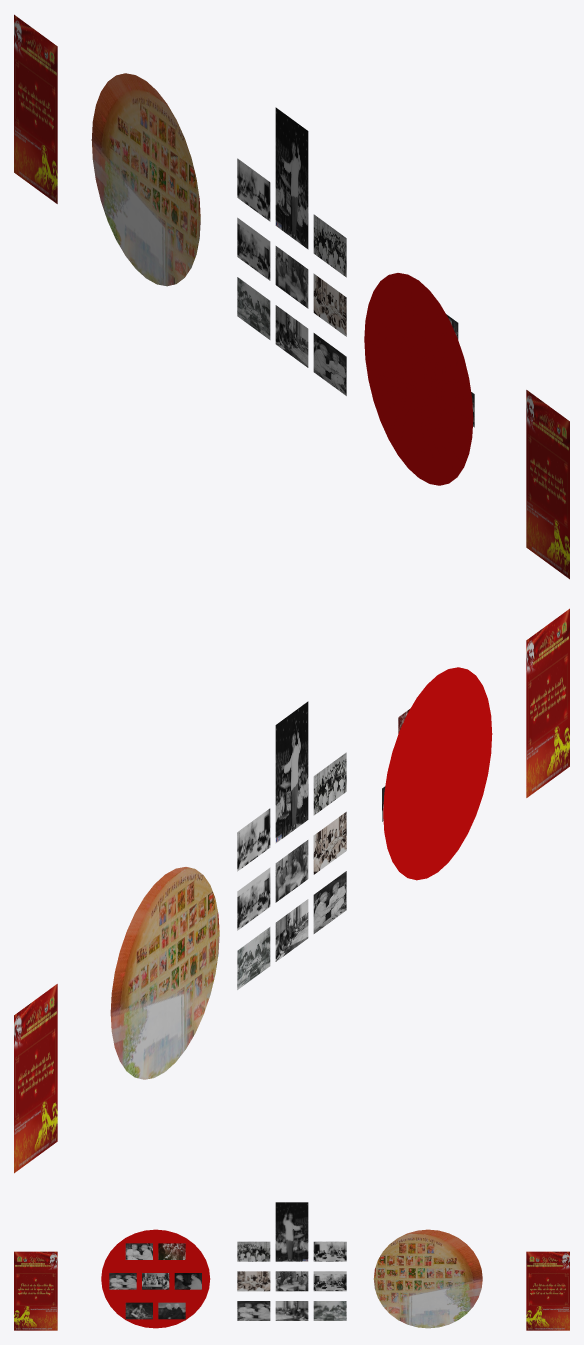
The model's file is VN_TN_Left.glb.
3 views of the same model, one above another, from view 1: azimuth 30°, elevation 25°; view 2: azimuth 150°, elevation 25°; view 3: azimuth 270°, elevation 25° (orthographic). The views are drawn at different scales.
Parts seen in each view (by area): view 1: Circle, Circle.002, Plane.010, Plane.004, Plane.012, Plane.014, Plane.015, Plane.017, Plane.022, Plane.006, Plane.011, Plane.016 (+1 smaller); view 2: Circle.002, Circle, Plane.010, Plane.004, Plane.012, Plane.011, Plane.014, Plane.015, Plane.017, Plane.022, Plane.006, Plane.016 (+1 smaller); view 3: Circle.002, Circle, Plane.010, Plane.004, Plane.012, Plane.011, Plane.014, Plane.015, Plane.017, Plane.016, Plane.022, Plane.002 (+8 smaller).
Part boxes in pixels (<box>): Circle: <box>364,273,473,485</box>; Circle.002: <box>91,73,200,286</box>; Plane.010: <box>14,14,57,203</box>; Plane.004: <box>526,390,569,579</box>; Plane.012: <box>275,107,308,249</box>; Plane.014: <box>237,158,270,221</box>; Plane.015: <box>313,273,346,336</box>; Plane.017: <box>237,217,270,280</box>; Plane.022: <box>237,277,270,339</box>; Plane.006: <box>313,333,346,395</box>; Plane.011: <box>313,214,346,277</box>; Plane.016: <box>275,246,308,308</box>; Circle.002: <box>110,867,219,1079</box>; Circle: <box>383,667,492,880</box>; Plane.010: <box>14,984,57,1173</box>; Plane.004: <box>526,608,569,797</box>; Plane.012: <box>275,701,308,843</box>; Plane.011: <box>313,752,346,815</box>; Plane.014: <box>237,808,270,871</box>; Plane.015: <box>313,811,346,874</box>; Plane.017: <box>237,867,270,930</box>; Plane.022: <box>237,927,270,989</box>; Plane.006: <box>313,871,346,933</box>; Plane.016: <box>275,840,308,902</box>; Circle.002: <box>373,1229,482,1328</box>; Circle: <box>101,1229,210,1328</box>; Plane.010: <box>526,1251,569,1330</box>; Plane.004: <box>14,1251,57,1330</box>; Plane.012: <box>275,1202,308,1261</box>; Plane.011: <box>237,1241,270,1261</box>; Plane.014: <box>313,1241,346,1261</box>; Plane.015: <box>237,1271,270,1291</box>; Plane.017: <box>313,1271,346,1291</box>; Plane.016: <box>275,1271,308,1291</box>; Plane.022: <box>313,1301,346,1320</box>; Plane.002: <box>275,1301,308,1320</box>.
Bounding box in the file's own units: 0.05 × 1.3 × 5.1.
Materials: 20 (19 with a texture image).
